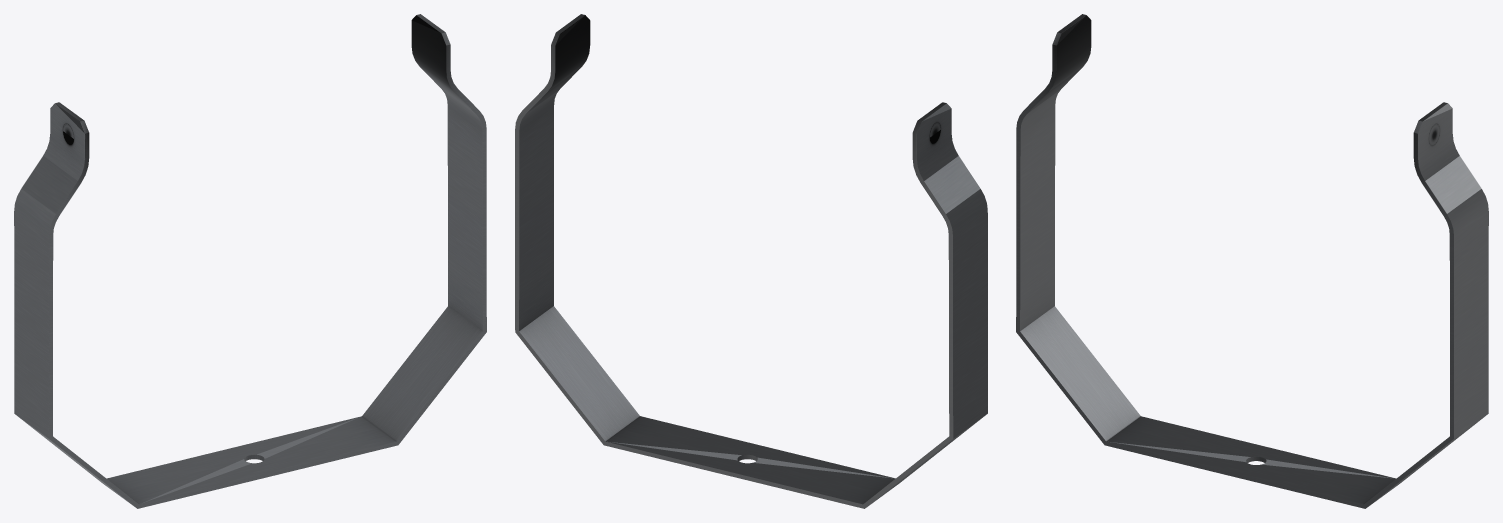
The model's file is reflector_yugo.obj.
The picture shows the model from 3 angles, left to right: view 1: azimuth 30°, elevation 25°; view 2: azimuth 150°, elevation 25°; view 3: azimuth 330°, elevation 25°; orthographic projection.
Visible parts, largest first — view 1: yugo; view 2: yugo; view 3: yugo.
Part boxes in pixels (x1=…): yugo: x1=14, y1=14, x2=486, y2=508; yugo: x1=515, y1=14, x2=987, y2=508; yugo: x1=1016, y1=14, x2=1488, y2=508.
Bounding box in the file's own units: 0.2233 × 0.1933 × 0.0309.
